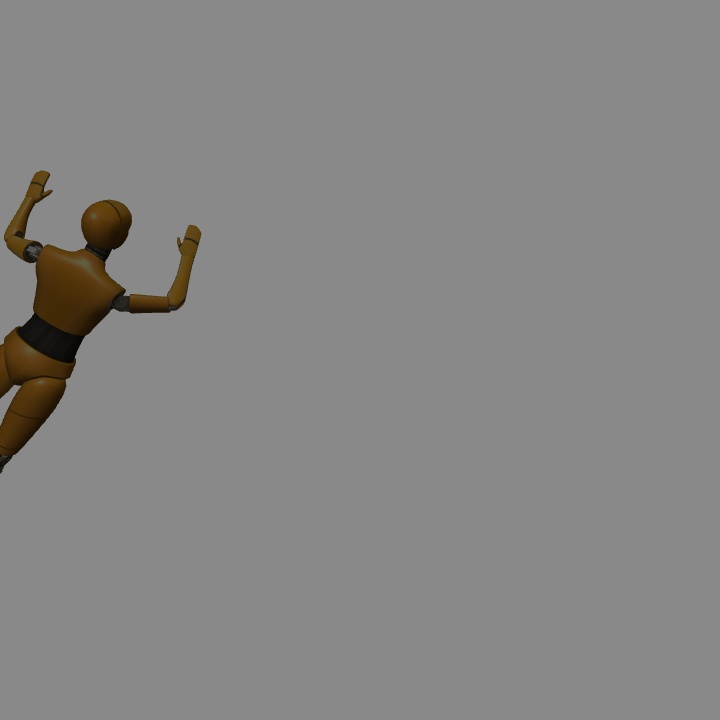victim: (3, 171, 201, 470)
